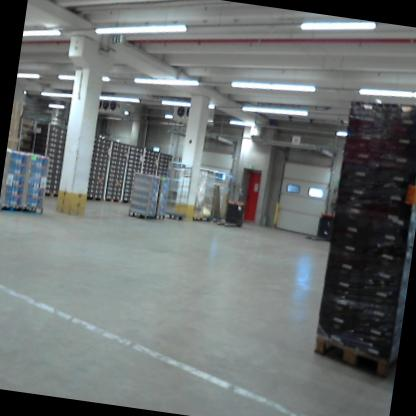pallet: (310, 332, 398, 383), (84, 194, 105, 203), (102, 195, 120, 204), (43, 190, 61, 198), (119, 197, 134, 206)
pallet_truck: (209, 183, 252, 233), (301, 199, 341, 247)
